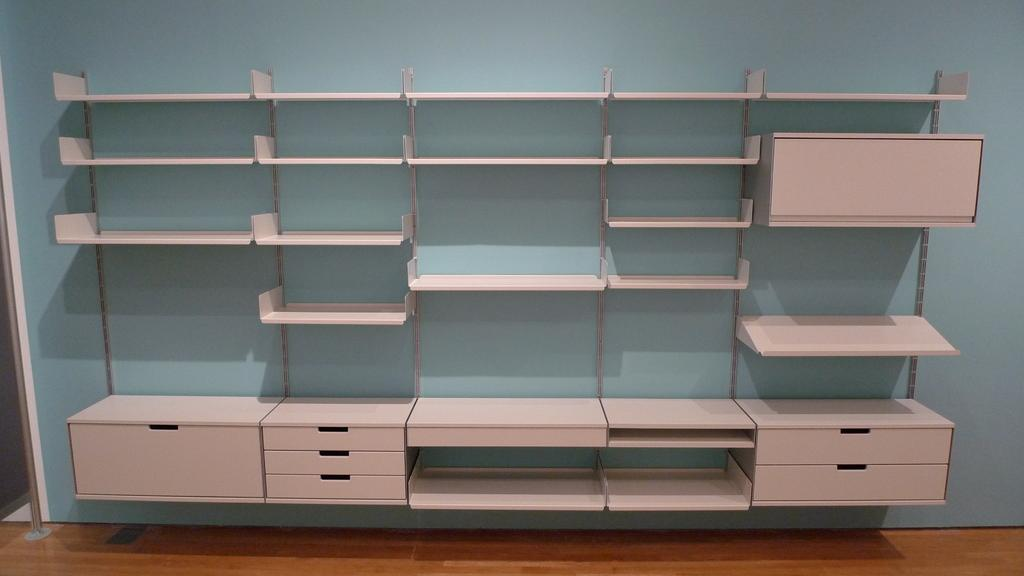cabinet_door: (70, 424, 262, 486), (758, 459, 948, 498), (759, 428, 952, 466), (267, 470, 401, 502), (264, 426, 402, 450), (264, 450, 402, 472)
handle: (141, 418, 183, 438), (831, 457, 871, 475), (318, 445, 360, 462), (836, 424, 873, 439), (318, 470, 356, 482), (312, 425, 355, 435)
